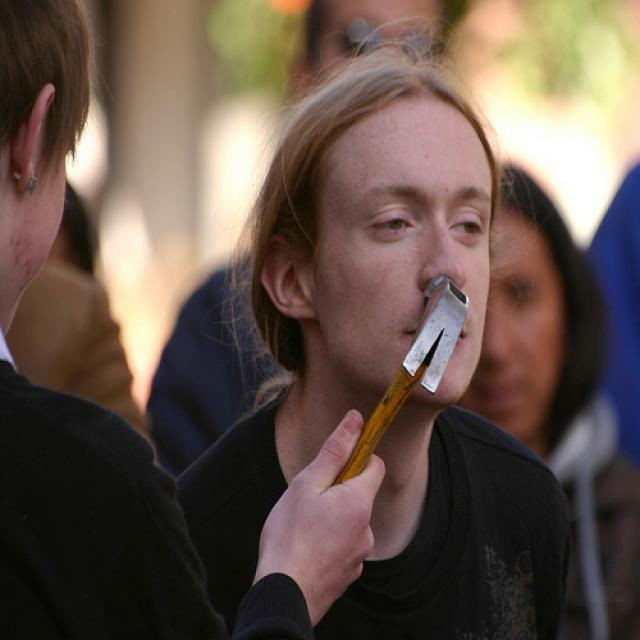hammer: (313, 266, 477, 511)
